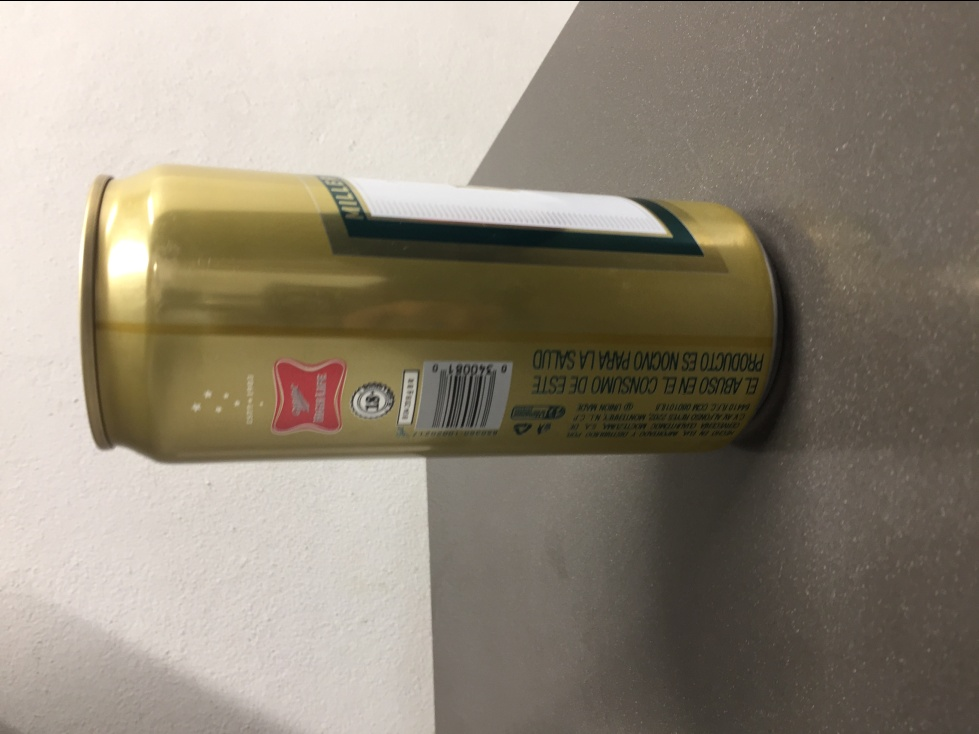miller: (77, 160, 786, 468)
